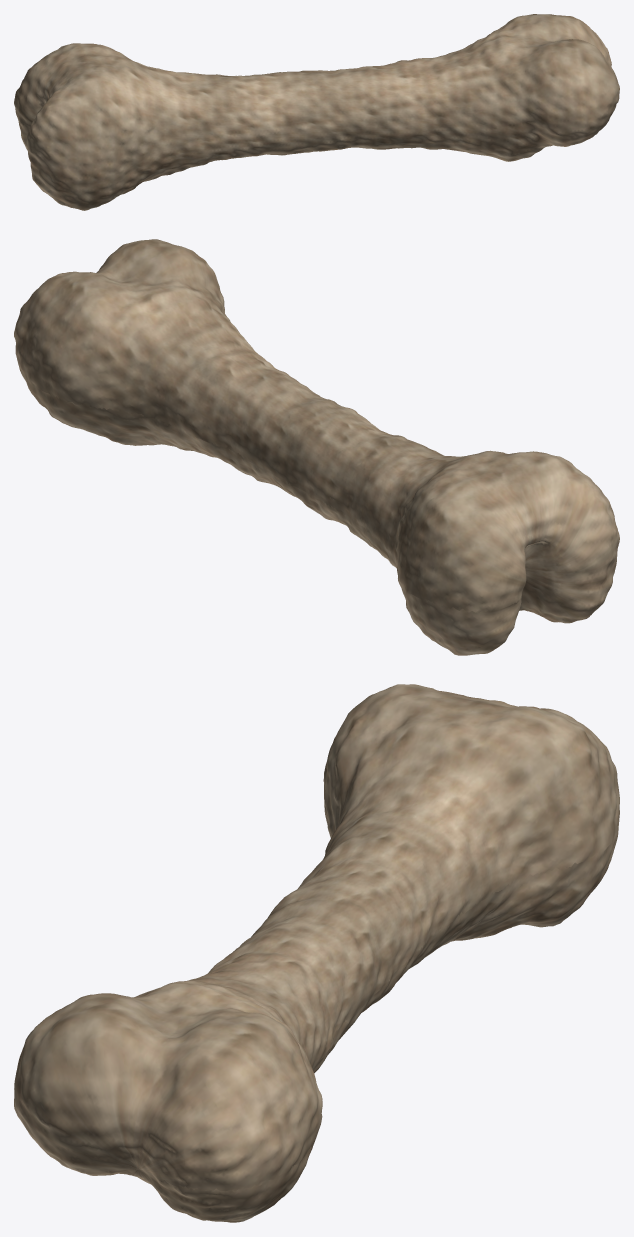
Rendered from osso_13_01_web.glb.
The picture shows the model from 3 angles, top to bottom: view 1: azimuth 30°, elevation 25°; view 2: azimuth 150°, elevation 25°; view 3: azimuth 270°, elevation 25°; orthographic projection. The views are drawn at different scales.
Visible parts, largest first — view 1: Femur_Bovino; view 2: Femur_Bovino; view 3: Femur_Bovino.
Boxes of the visible parts, box(x1,y1,x2,y2) form: Femur_Bovino: box(14, 14, 619, 210); Femur_Bovino: box(14, 239, 619, 655); Femur_Bovino: box(14, 684, 619, 1222).
Size of the model in its own units: 0.3131 by 0.0754 by 0.1868.
Materials: 1 (1 with a texture image).
